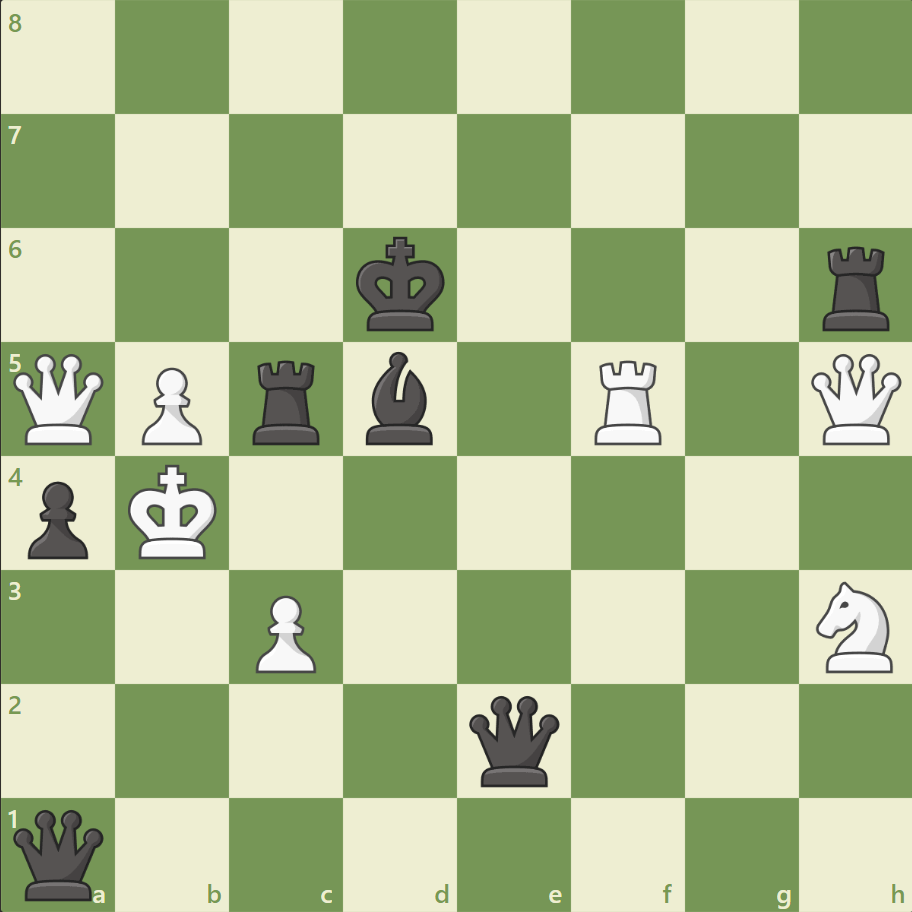K: (124, 458, 224, 566)
N: (806, 575, 903, 677)
P: (133, 359, 208, 450), (247, 586, 322, 677)
Q: (10, 349, 109, 449), (805, 349, 904, 449)
R: (587, 352, 670, 449)
b: (358, 347, 442, 449)
k: (351, 231, 451, 339)
p: (20, 473, 95, 564)
q: (464, 690, 563, 789), (10, 804, 109, 903)
r: (814, 239, 897, 336), (246, 352, 329, 449)
